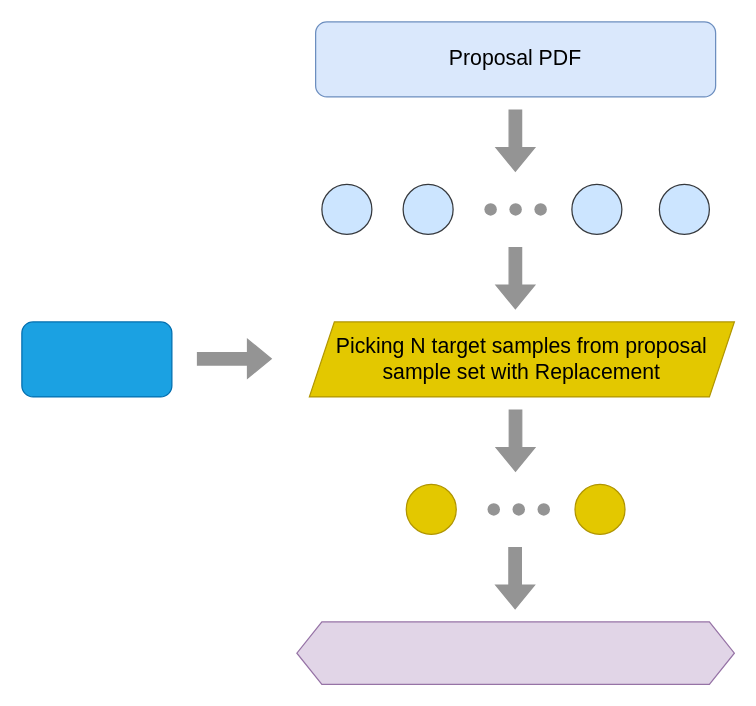
Image size: 756x706. Some labels were removed from this diagram. The centre of each missing label's shape, as x and y in pixels:
"RIS Estimator" goes at (515,652).
"Target Distribution" goes at (96,359).
